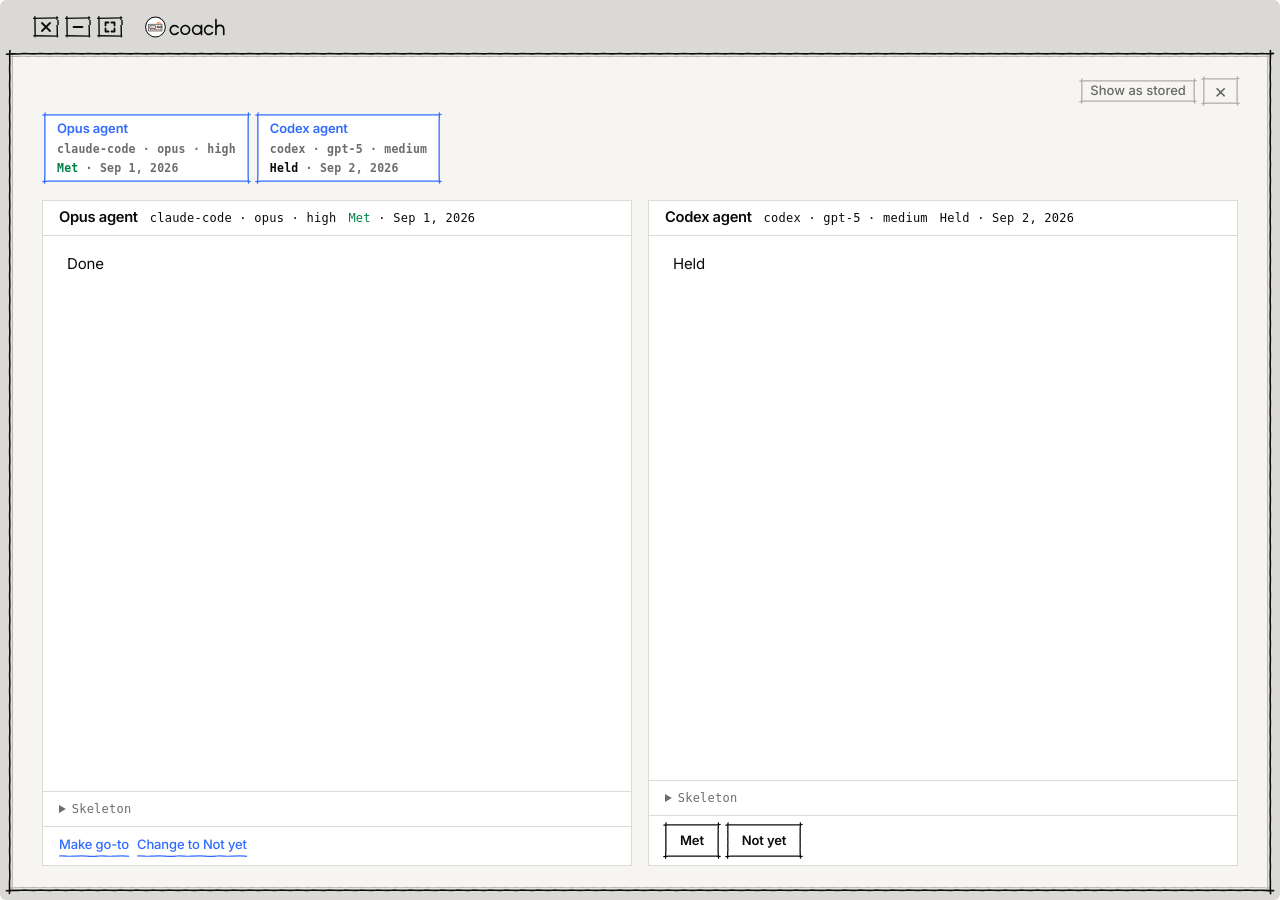
Test: CompareView under a strip › while a judgment saves every action is disabled and Escape does nothing; a failure shows inline and records nothing
The image size is (1280, 900).
Expected: the list named "Replies" is shown, [44,114,440,182]
Click the button "Met": (692, 840) [665,824,719,857]
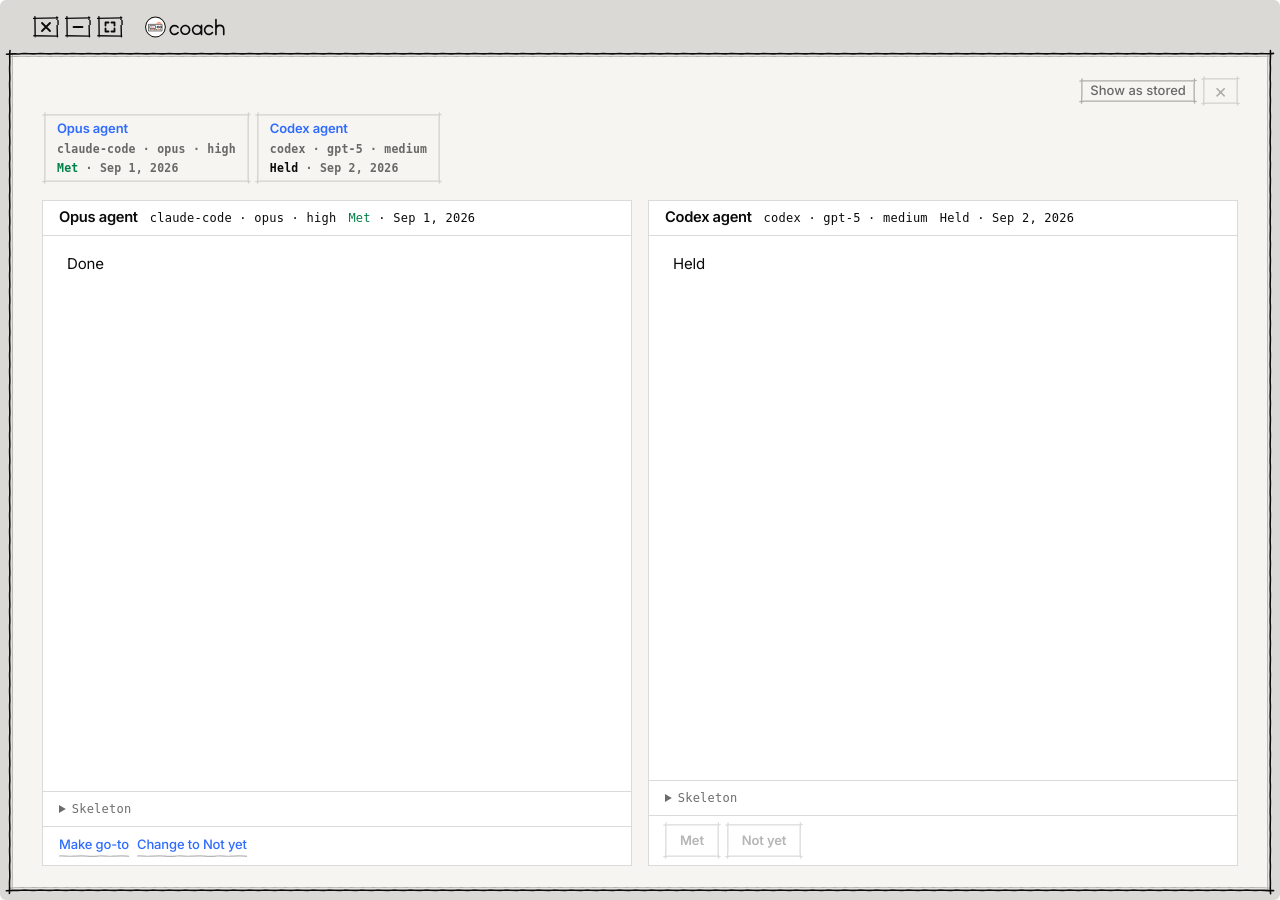
Now the button "Make go-to" is disabled, box [59,834,129,857]
Now the button "Not yet" is disabled, box [727,824,801,857]
Now the button named "Close" is disabled, box [1203,78,1238,104]
Press Escape
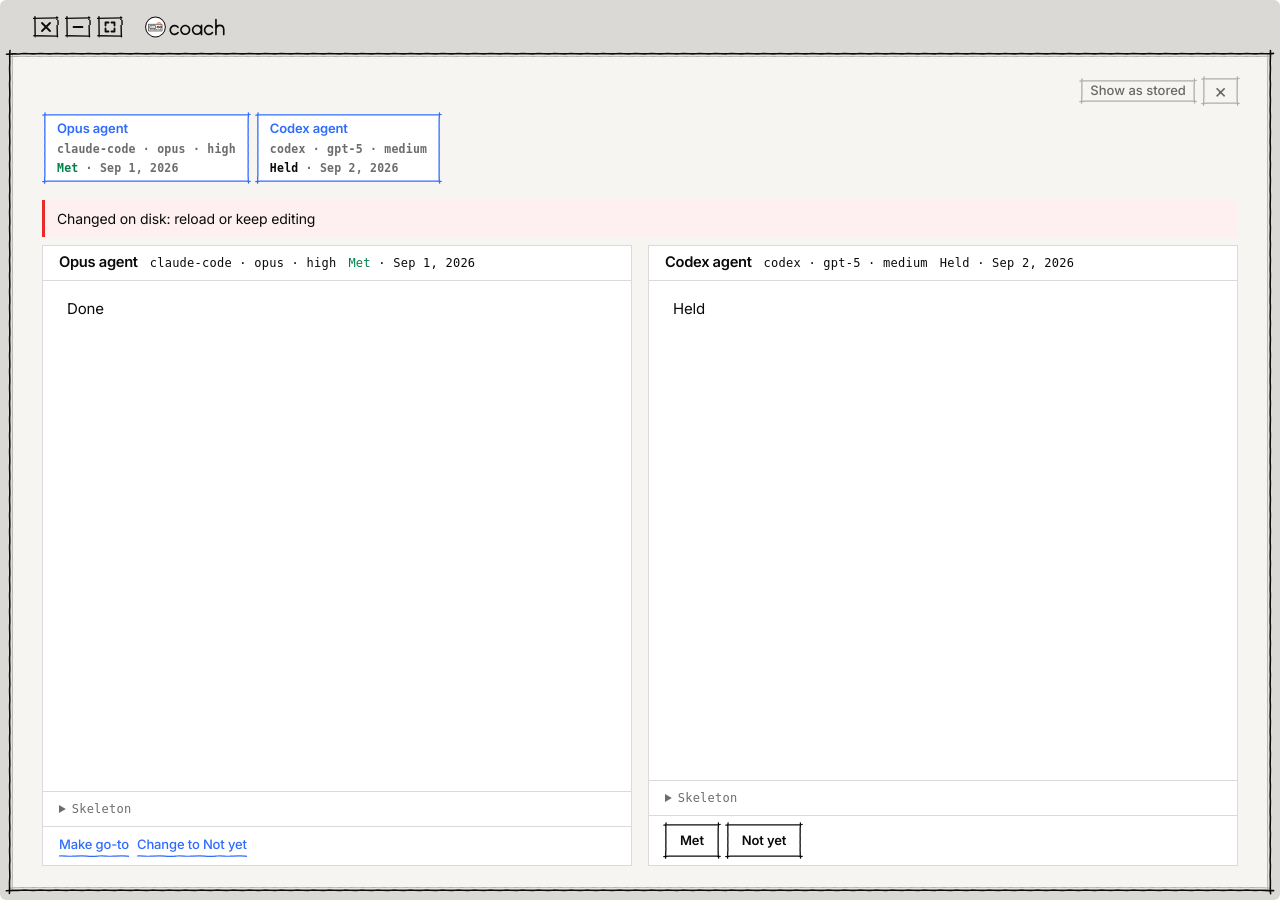
Now the message "Changed on disk: reload or keep editing" is shown, box [42,200,1238,237]
Now the button named "Close" is enabled, box [1203,78,1238,104]
